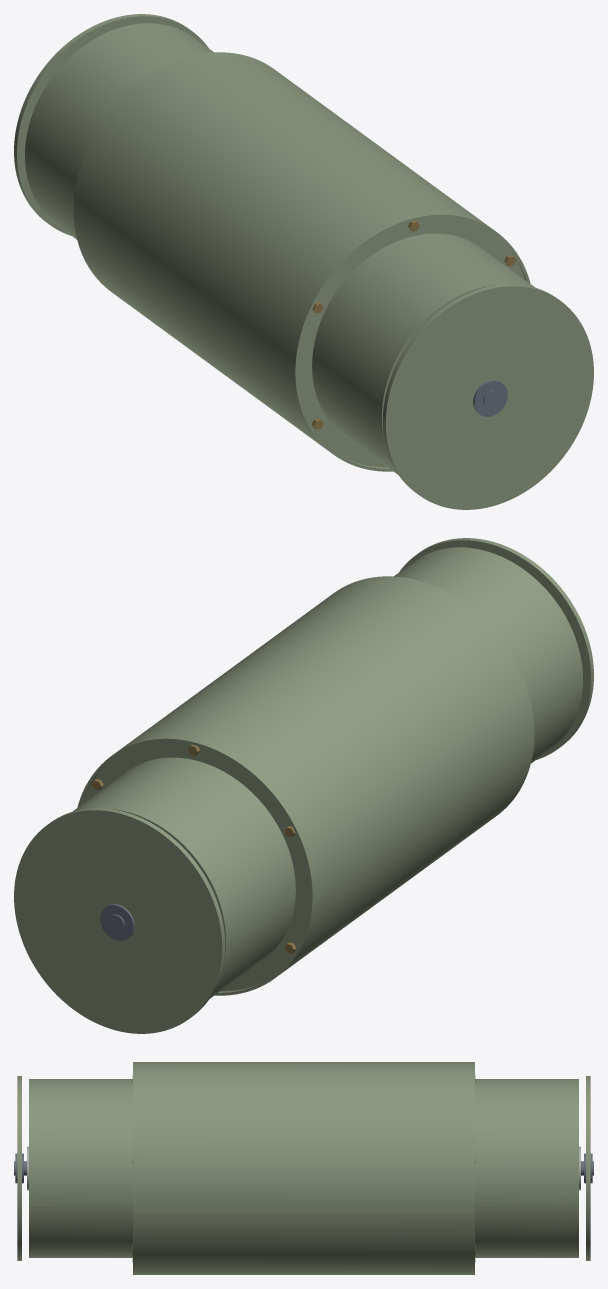
The model's file is tube-r150-n6-air6-wound-g0p5-6br-hub50-layout.glb.
3 views of the same model, one above another, from view 1: azimuth 30°, elevation 25°; view 2: azimuth 150°, elevation 25°; view 3: azimuth 270°, elevation 25° (orthographic). The views are drawn at different scales.
Parts seen in each view (by area): view 1: cage / stator_cage - the counter-rotor's cage: one tube from, bearings / B_spider_end - frame bearing hub [G10 bearing spi, rel-B / B_bridge_ring - bridge ring (counter-rotor), bridges, rel-A / A_bridge_ring - bridge ring (counter-rotor), bridges, bearings / B_spider_Ca-reluctance - bearing hub, tied into t, bearings / A_spider_end - frame bearing hub [G10 bearing spi, bearings / B_spider_bridge-ring - the bridge-ring bearing's , bearings / A_spider_bridge-ring - the bridge-ring bearing's , bearings / A_ring_adapter - the spider's rim to bridge ring , bearings / B_bearing_end - bearing, end (frame) [6205-class , bearings / B_ring_adapter - the spider's rim to bridge ring ; view 2: cage / stator_cage - the counter-rotor's cage: one tube from, bearings / A_spider_end - frame bearing hub [G10 bearing spi, rel-A / A_bridge_ring - bridge ring (counter-rotor), bridges, rel-B / B_bridge_ring - bridge ring (counter-rotor), bridges, bearings / A_spider_Ca-reluctance - bearing hub, tied into t, bearings / B_spider_end - frame bearing hub [G10 bearing spi, bearings / A_spider_bridge-ring - the bridge-ring bearing's , bearings / B_spider_bridge-ring - the bridge-ring bearing's , bearings / B_ring_adapter - the spider's rim to bridge ring , bearings / A_bearing_end - bearing, end (frame) [6205-class , bearings / A_ring_adapter - the spider's rim to bridge ring ; view 3: cage / stator_cage - the counter-rotor's cage: one tube from, rel-A / A_bridge_ring - bridge ring (counter-rotor), bridges, rel-B / B_bridge_ring - bridge ring (counter-rotor), bridges, bearings / A_spider_end - frame bearing hub [G10 bearing spi, bearings / B_spider_end - frame bearing hub [G10 bearing spi, bearings / A_spider_bridge-ring - the bridge-ring bearing's , bearings / B_spider_bridge-ring - the bridge-ring bearing's , bearings / A_ring_adapter - the spider's rim to bridge ring , bearings / B_ring_adapter - the spider's rim to bridge ring .
Part boxes in pixels (bbox=[...]): cage / stator_cage - the counter-rotor's cage: one tube from: bbox=[73, 52, 530, 471]; bearings / B_spider_end - frame bearing hub [G10 bearing spi: bbox=[382, 284, 593, 509]; rel-B / B_bridge_ring - bridge ring (counter-rotor), bridges: bbox=[312, 233, 534, 474]; rel-A / A_bridge_ring - bridge ring (counter-rotor), bridges: bbox=[30, 27, 213, 239]; bearings / B_spider_Ca-reluctance - bearing hub, tied into t: bbox=[298, 217, 524, 467]; bearings / A_spider_end - frame bearing hub [G10 bearing spi: bbox=[14, 14, 208, 235]; bearings / B_spider_bridge-ring - the bridge-ring bearing's : bbox=[379, 282, 520, 462]; bearings / A_spider_bridge-ring - the bridge-ring bearing's : bbox=[25, 23, 193, 225]; bearings / A_ring_adapter - the spider's rim to bridge ring : bbox=[28, 25, 195, 224]; bearings / B_bearing_end - bearing, end (frame) [6205-class : bbox=[473, 380, 507, 416]; bearings / B_ring_adapter - the spider's rim to bridge ring : bbox=[376, 280, 528, 467]; cage / stator_cage - the counter-rotor's cage: one tube from: bbox=[77, 576, 534, 995]; bearings / A_spider_end - frame bearing hub [G10 bearing spi: bbox=[14, 808, 225, 1033]; rel-A / A_bridge_ring - bridge ring (counter-rotor), bridges: bbox=[73, 757, 295, 998]; rel-B / B_bridge_ring - bridge ring (counter-rotor), bridges: bbox=[394, 551, 577, 763]; bearings / A_spider_Ca-reluctance - bearing hub, tied into t: bbox=[83, 741, 309, 991]; bearings / B_spider_end - frame bearing hub [G10 bearing spi: bbox=[399, 538, 593, 759]; bearings / A_spider_bridge-ring - the bridge-ring bearing's : bbox=[87, 806, 228, 986]; bearings / B_spider_bridge-ring - the bridge-ring bearing's : bbox=[414, 547, 582, 749]; bearings / B_ring_adapter - the spider's rim to bridge ring : bbox=[412, 549, 579, 748]; bearings / A_bearing_end - bearing, end (frame) [6205-class : bbox=[100, 904, 134, 940]; bearings / A_ring_adapter - the spider's rim to bridge ring : bbox=[79, 804, 231, 991]; cage / stator_cage - the counter-rotor's cage: one tube from: bbox=[133, 1062, 474, 1274]; rel-A / A_bridge_ring - bridge ring (counter-rotor), bridges: bbox=[475, 1079, 570, 1257]; rel-B / B_bridge_ring - bridge ring (counter-rotor), bridges: bbox=[37, 1079, 132, 1257]; bearings / A_spider_end - frame bearing hub [G10 bearing spi: bbox=[586, 1076, 590, 1260]; bearings / B_spider_end - frame bearing hub [G10 bearing spi: bbox=[17, 1076, 21, 1260]; bearings / A_spider_bridge-ring - the bridge-ring bearing's : bbox=[574, 1079, 578, 1257]; bearings / B_spider_bridge-ring - the bridge-ring bearing's : bbox=[29, 1079, 33, 1257]; bearings / A_ring_adapter - the spider's rim to bridge ring : bbox=[571, 1079, 574, 1257]; bearings / B_ring_adapter - the spider's rim to bridge ring : bbox=[33, 1079, 36, 1257].
Bounding box in the file's own units: 0.372 × 0.372 × 1.01.
